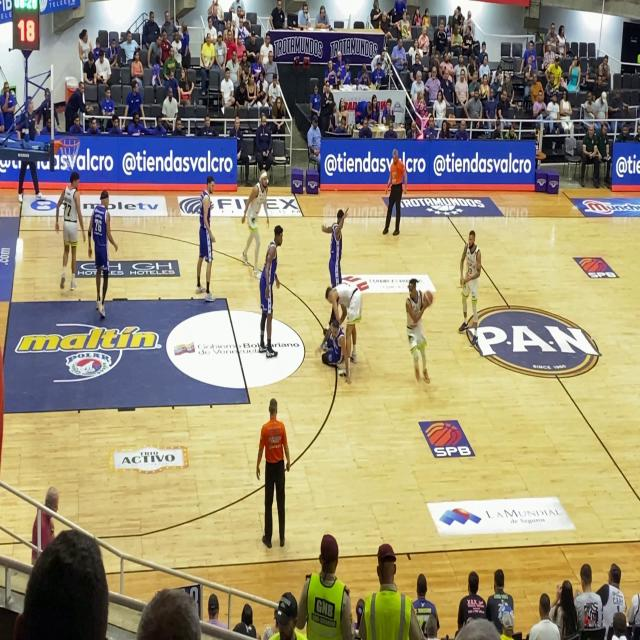Ball: (422, 286, 436, 310)
referee: (252, 394, 298, 551), (377, 133, 409, 249)
team1: (397, 259, 441, 396), (53, 169, 86, 300), (321, 279, 368, 366), (460, 218, 486, 346), (244, 162, 266, 286)
team2: (85, 176, 120, 330), (258, 216, 290, 364), (191, 166, 223, 299), (320, 203, 348, 289), (317, 313, 347, 374)
ubasket: (60, 133, 81, 168)
